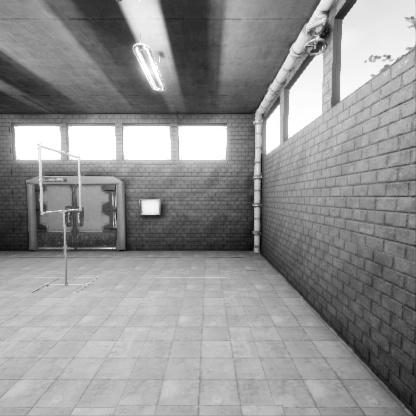gate: (37, 204, 82, 275)
